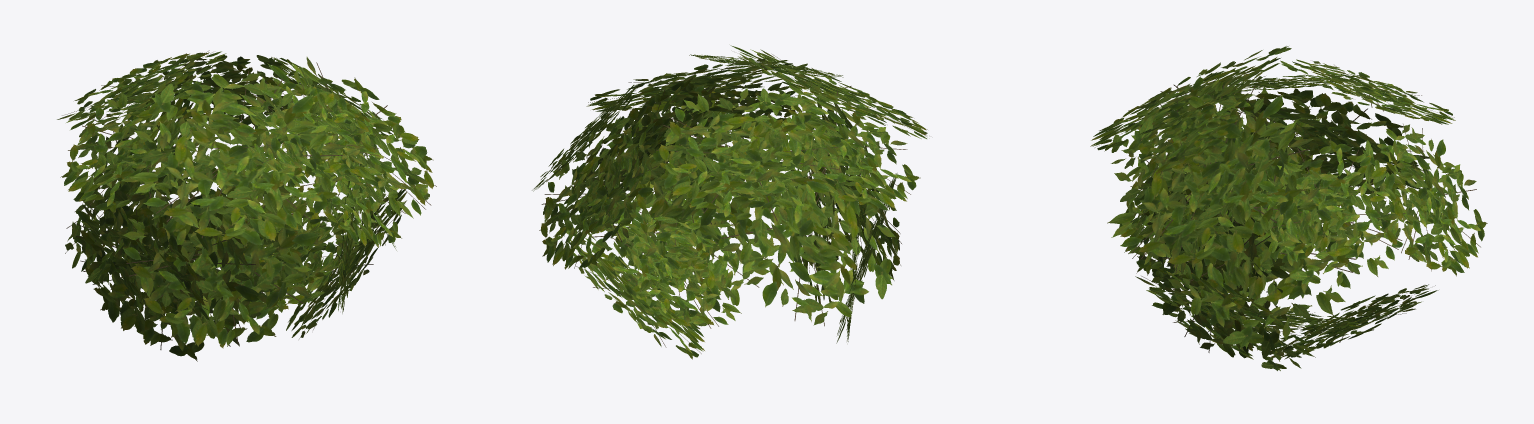
File: shrub_a.glb
3 views of the same model, side by side, from view 1: azimuth 30°, elevation 25°; view 2: azimuth 150°, elevation 25°; view 3: azimuth 270°, elevation 25° (orthographic). The views are drawn at different scales.
Parts seen in each view (by area): view 1: shrub_a; view 2: shrub_a; view 3: shrub_a.
Part boxes in pixels (x1,y1,x2,y2): shrub_a: [57, 50, 436, 361]; shrub_a: [532, 45, 927, 359]; shrub_a: [1090, 46, 1487, 370].
Bounding box in the file's own units: 2.28 × 1.87 × 2.37.
1 material, 1 textured.
